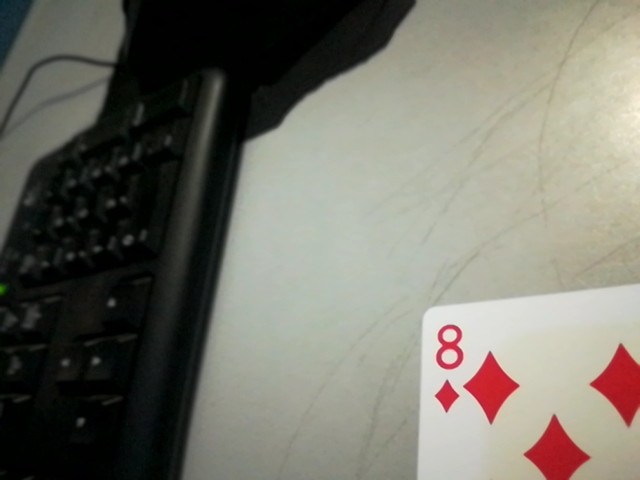fk 8: (422, 316, 475, 421)
